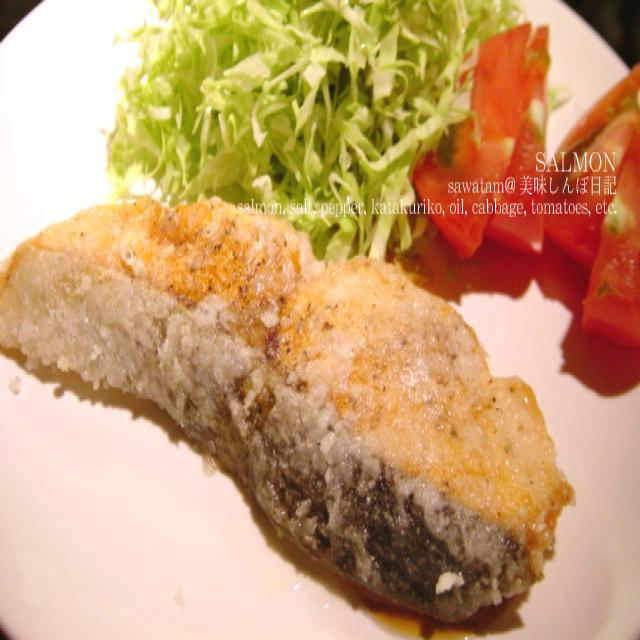熟制海鲜: (0, 188, 572, 616)
